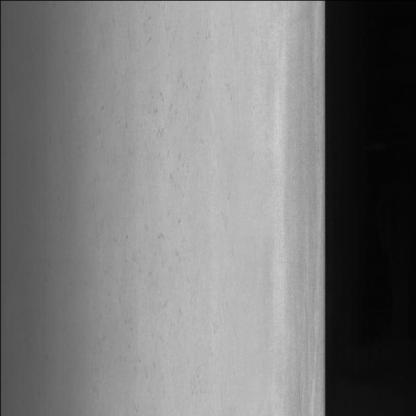silk_spot: (107, 49, 200, 370)
